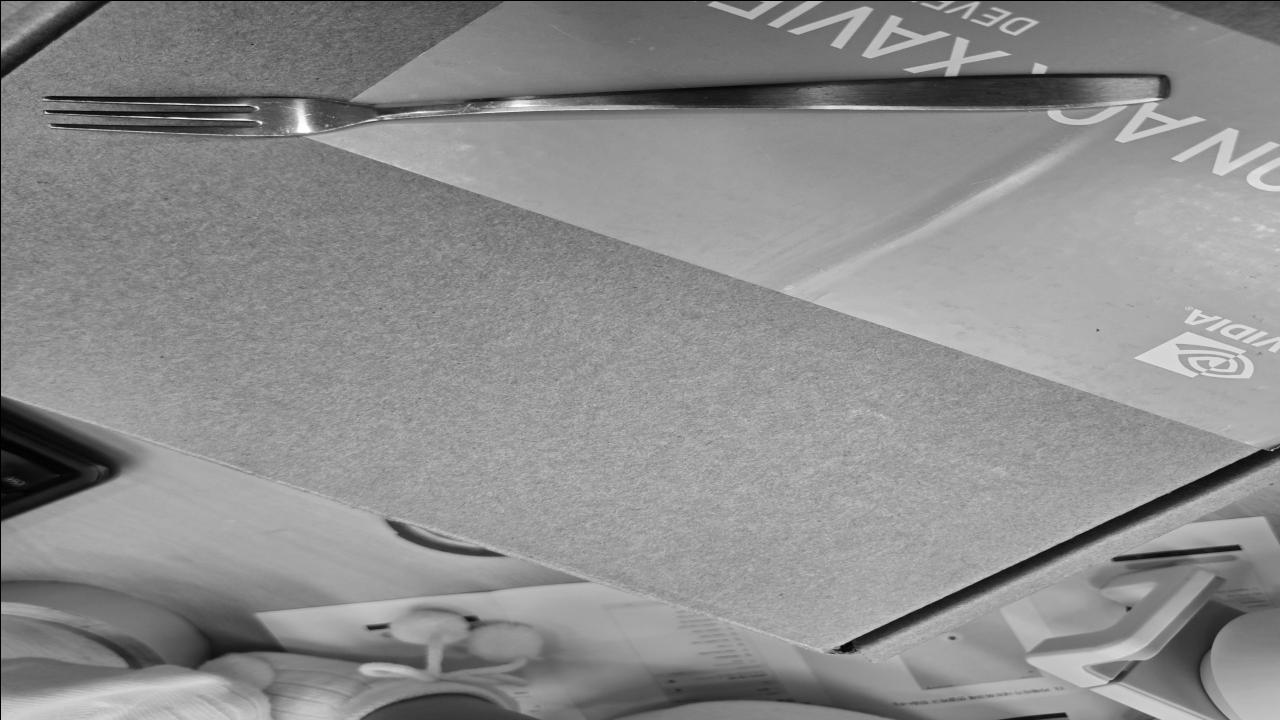fork: (38, 72, 1168, 137)
